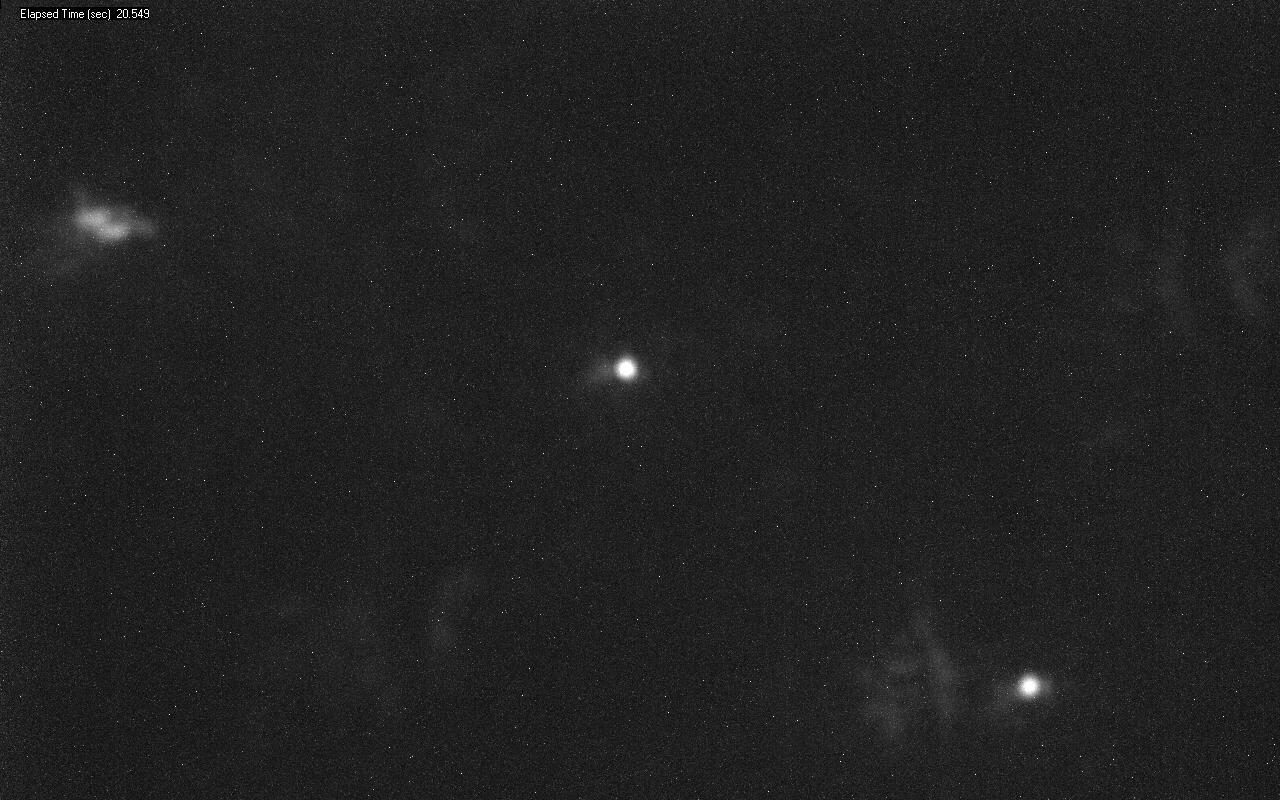Bead: (614, 357, 638, 381), (1018, 675, 1040, 698)
